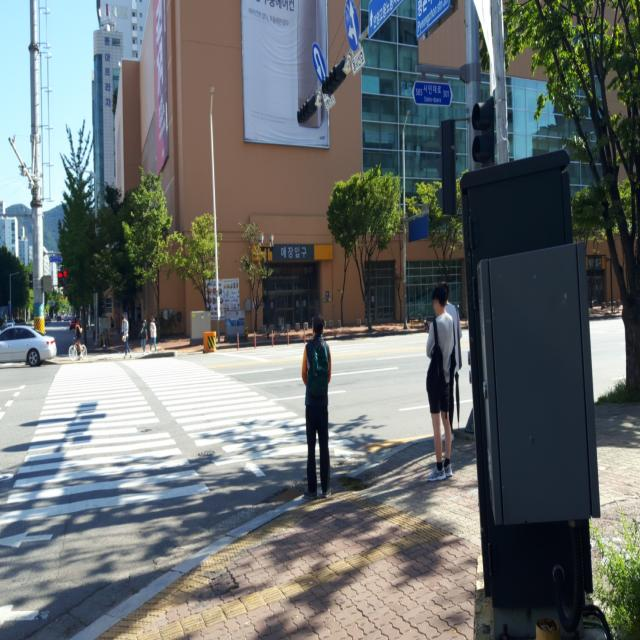빨간불: (54, 269, 70, 292)
횡단보도: (0, 353, 376, 640)
